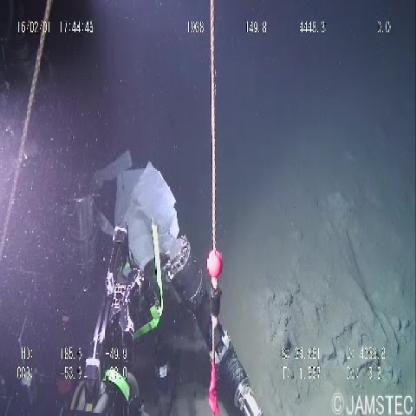Rov: (82, 219, 265, 416)
Rác: (86, 155, 178, 266)
